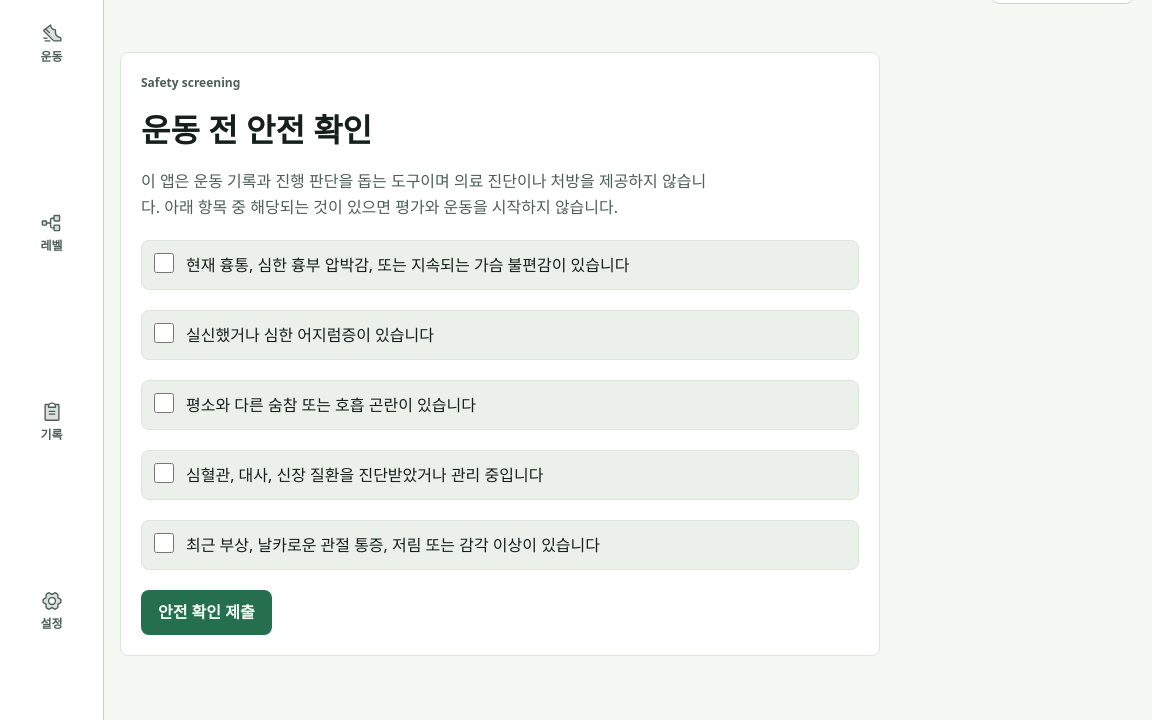
Test case: assessment onboarding › runs one controlled assessment step with labelled inputs and advances after a pass
(page scrolled)
Step 1. Click the button "안전 확인 제출" → (206, 613), box [141,590,272,635]
(page scrolled)
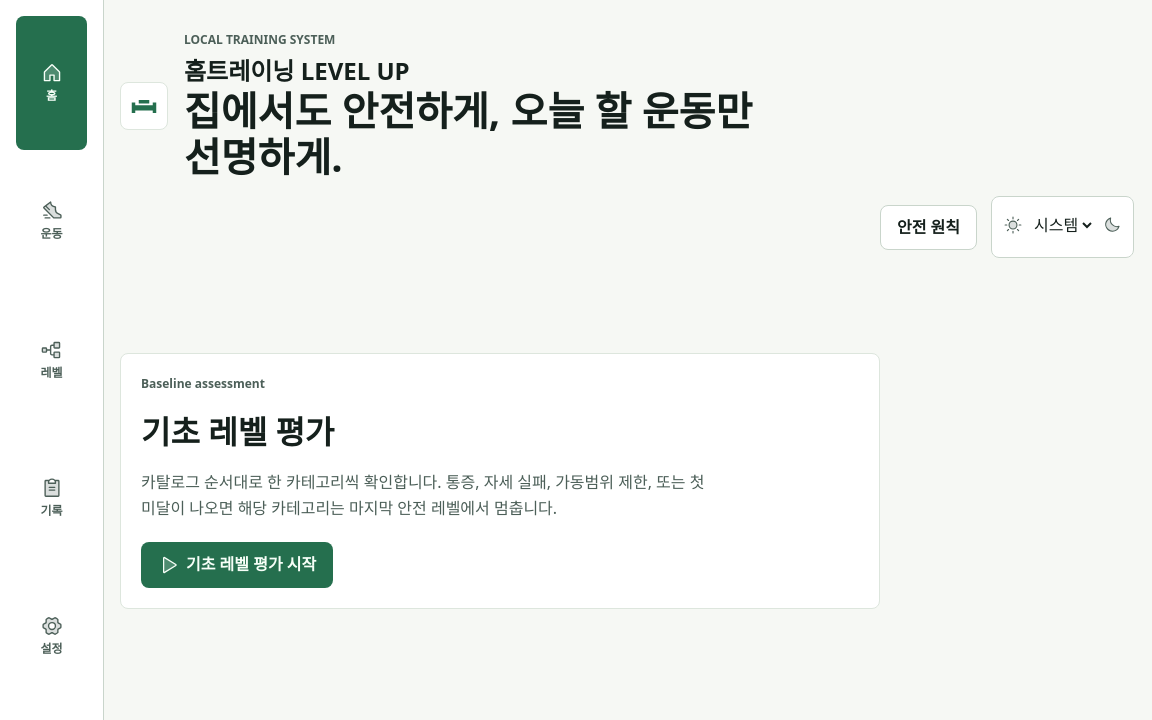
Step 2. Click the button "기초 레벨 평가 시작" → (237, 565), box [141,542,333,588]
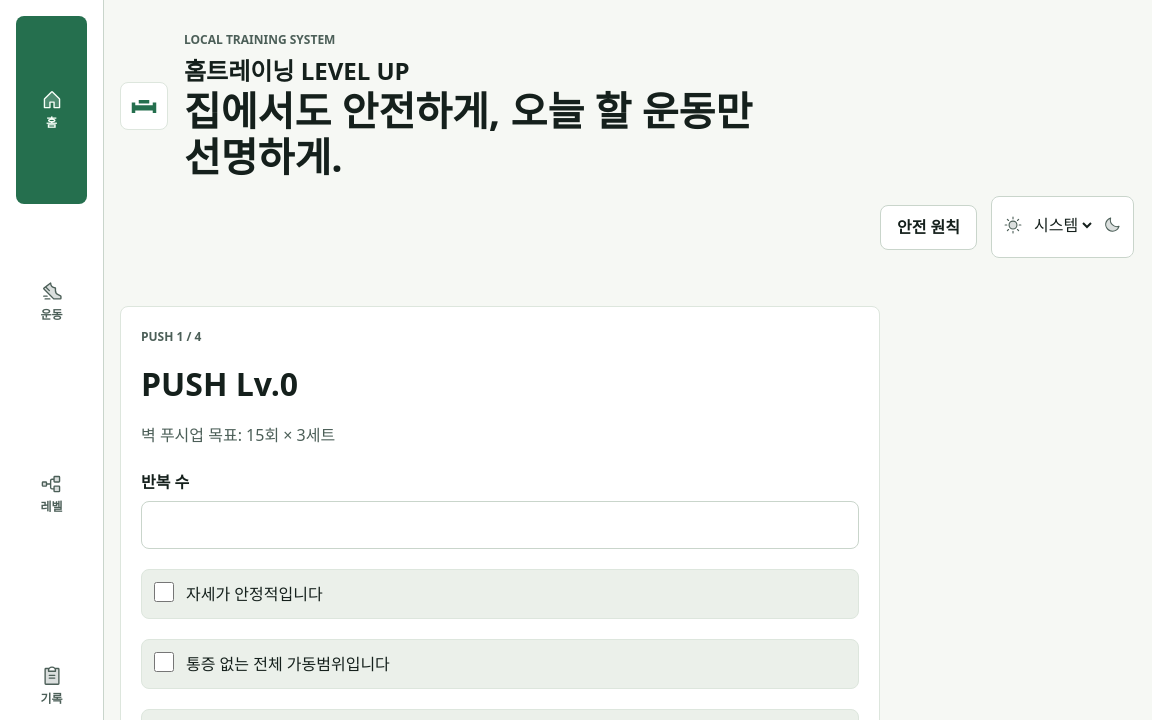
Step 3. Type "15" into the number field labelled "반복 수" → (500, 525), box [141,501,859,549]
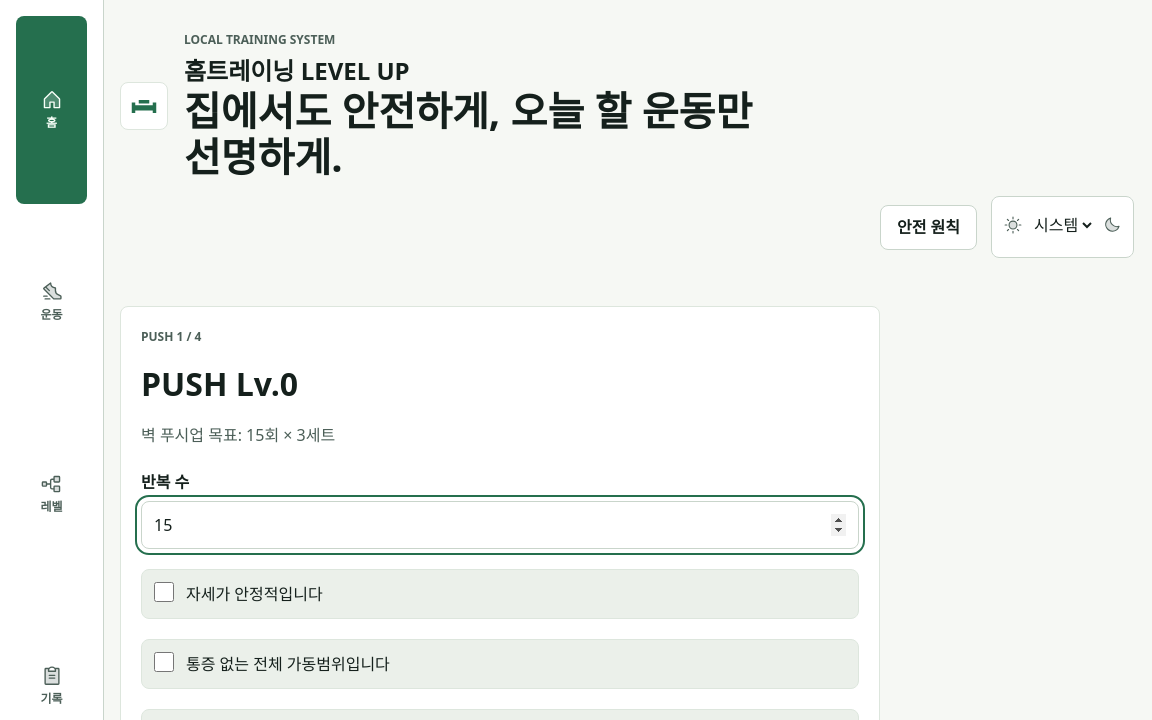
Step 4. Click the checkbox labelled "자세가 안정적입니다" → (164, 592), box [154,582,174,602]
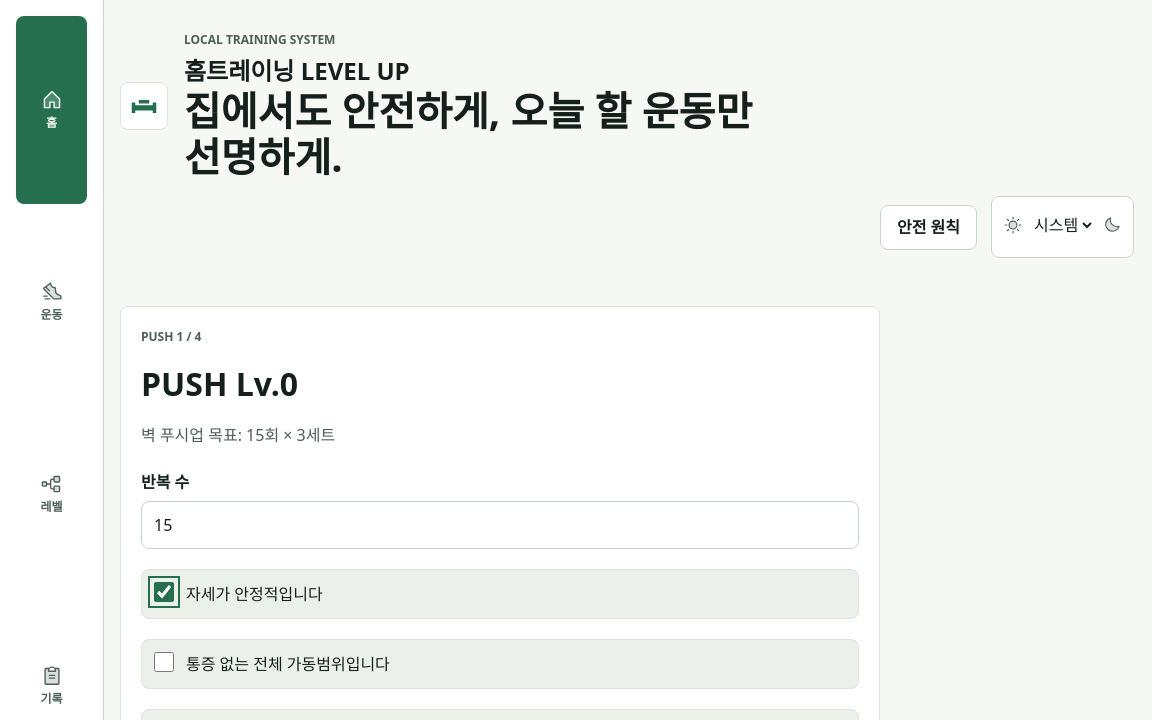
Step 5. Click the checkbox labelled "통증 없는 전체 가동범위입니다" → (164, 662), box [154,652,174,672]
(page scrolled)
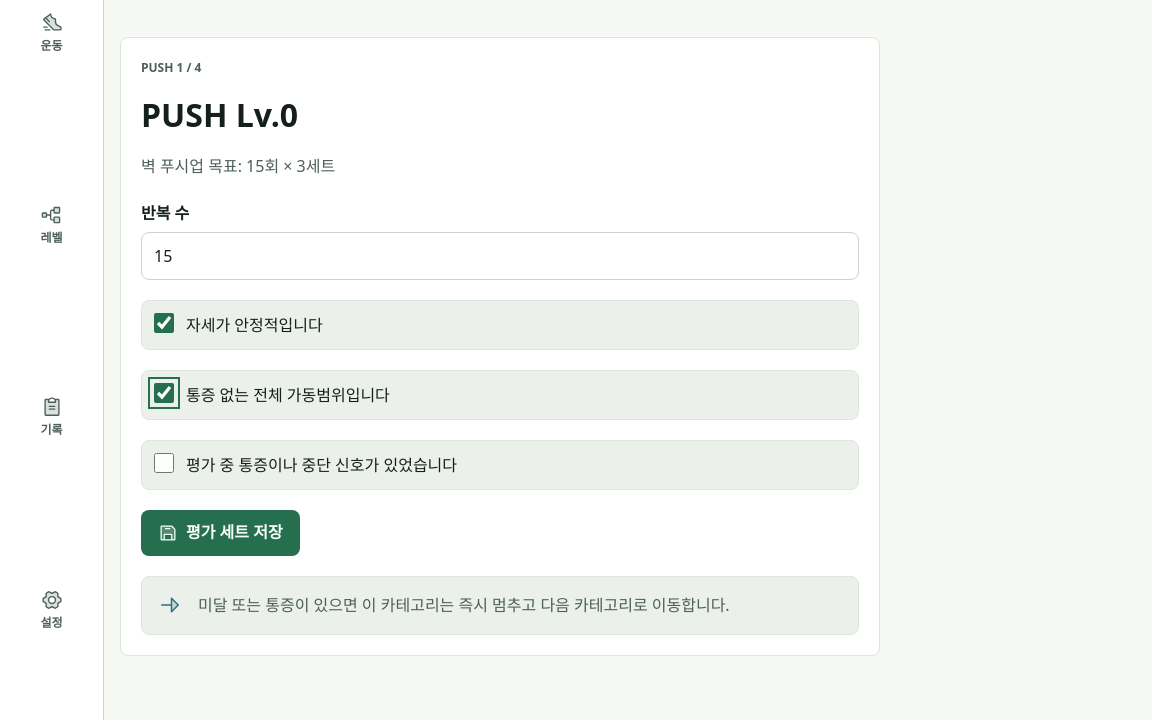
Step 6. Click the button "평가 세트 저장" → (220, 533), box [141,510,300,556]
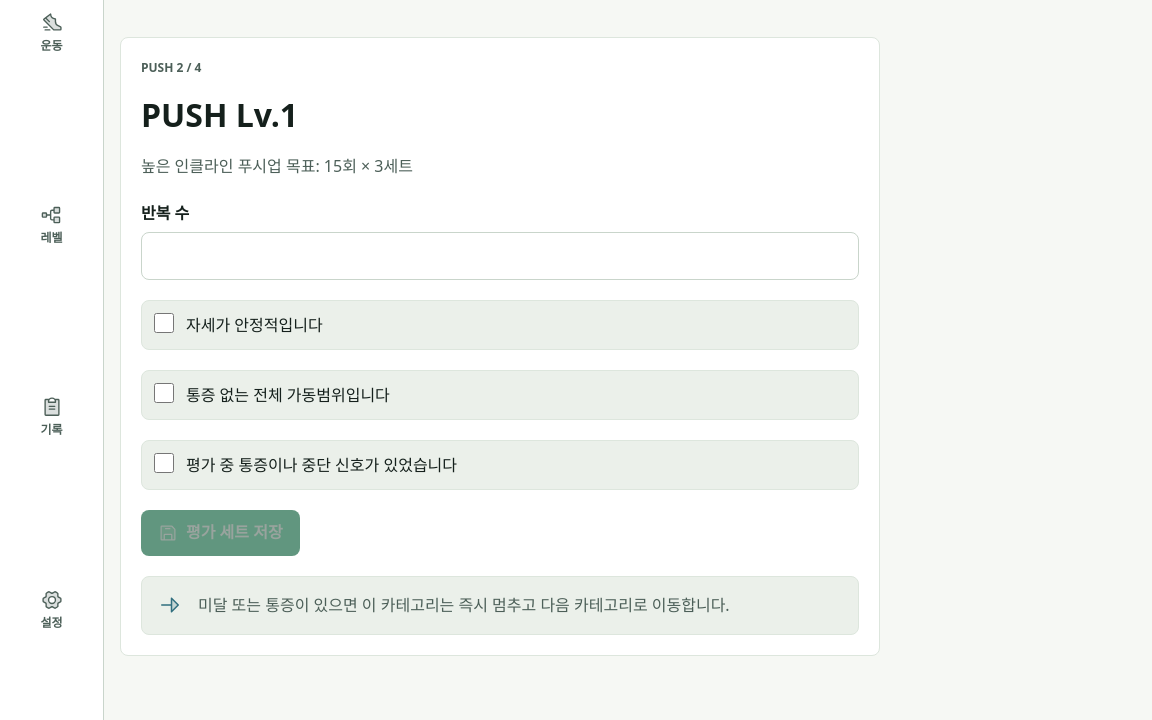
Check: the heading "PUSH Lv.1" is shown, box [141,93,298,136]
